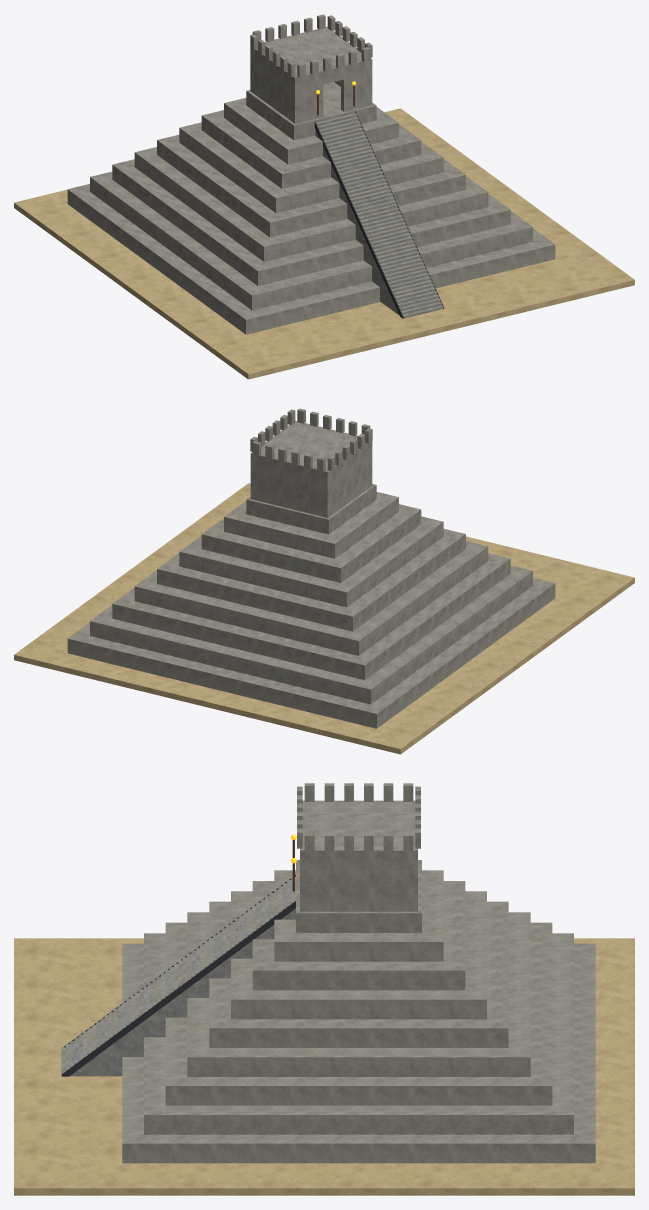
Rendered from b_maya_pyramid.gltf.
3 renders of one model, top to bottom at view 1: azimuth 30°, elevation 25°; view 2: azimuth 150°, elevation 25°; view 3: azimuth 270°, elevation 25°, orthographic. The views are drawn at different scales.
Visible parts, largest first — view 1: S_maya_pyramid; view 2: S_maya_pyramid; view 3: S_maya_pyramid.
Boxes of the visible parts, <box> form: S_maya_pyramid: <box>14,14,634,379</box>; S_maya_pyramid: <box>14,408,634,754</box>; S_maya_pyramid: <box>14,783,634,1195</box>.
Size of the model in its own units: 30 by 14.6 by 31.5.
6 materials, 4 textured.
